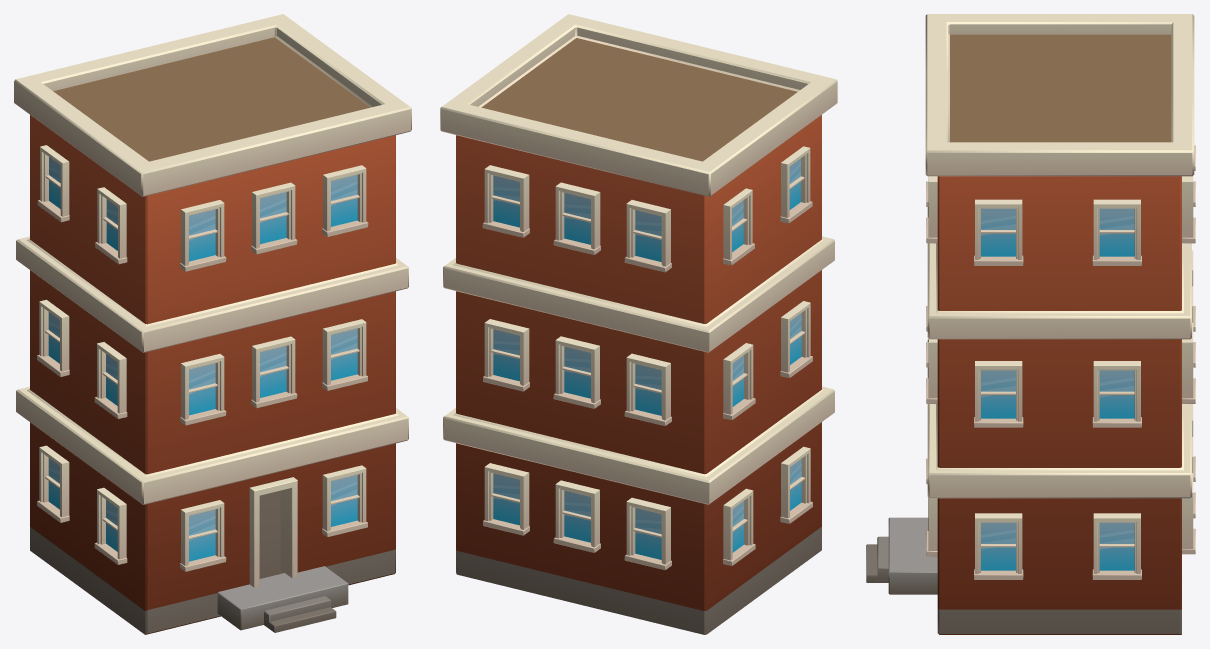
The model's file is ApartmentWRoom.fbx.
3 views of the same model, side by side, from view 1: azimuth 30°, elevation 25°; view 2: azimuth 150°, elevation 25°; view 3: azimuth 270°, elevation 25° (orthographic). The views are drawn at different scales.
Parts seen in each view (by area): view 1: Cube_1; view 2: Cube_1; view 3: Cube_1.
Part boxes in pixels (bbox=[...]): Cube_1: bbox=[14, 14, 411, 634]; Cube_1: bbox=[440, 14, 837, 634]; Cube_1: bbox=[866, 14, 1195, 634].
Size of the model in its own units: 1847 by 3041 by 1855.
Materials: 1 (1 with a texture image).
